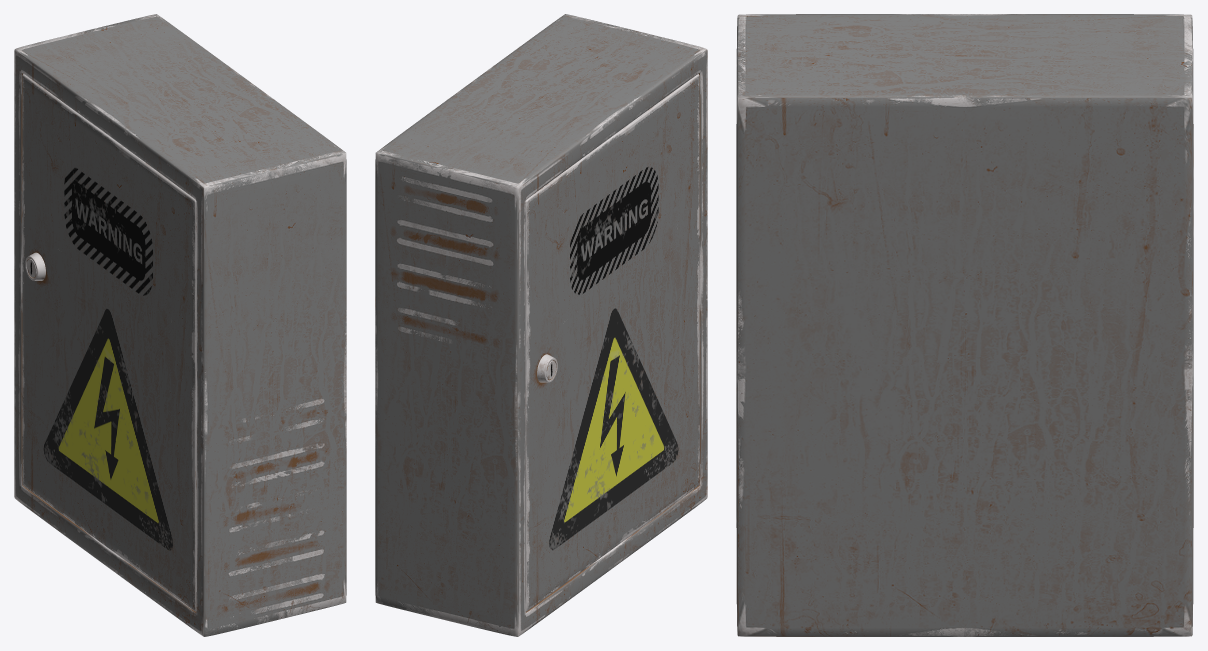
Rendered from electric_box.glb.
The picture shows the model from 3 angles, left to right: view 1: azimuth 30°, elevation 25°; view 2: azimuth 150°, elevation 25°; view 3: azimuth 270°, elevation 25°; orthographic projection. The views are drawn at different scales.
Parts seen in each view (by area): view 1: electricBox; view 2: electricBox; view 3: electricBox.
Boxes of the visible parts, left/top/right/bottom form: electricBox: left=14, top=14, right=346, bottom=636; electricBox: left=375, top=14, right=707, bottom=636; electricBox: left=736, top=14, right=1193, bottom=636.
Bounding box in the file's own units: 0.2828 × 0.8054 × 0.6163.
1 material, 1 textured.
